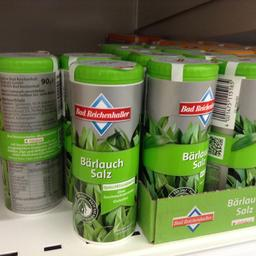spices: (66, 57, 145, 241), (144, 54, 219, 196), (0, 50, 61, 215)
